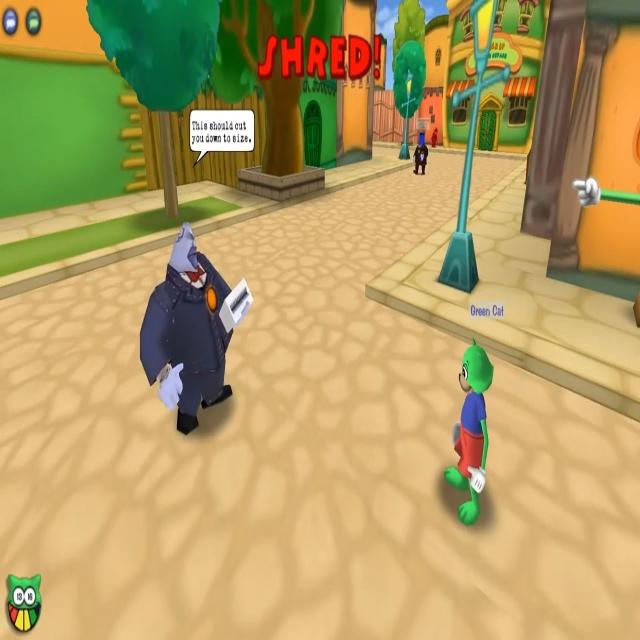bottomfeeder: (139, 109, 255, 432)
coldcaller: (412, 116, 440, 176)
